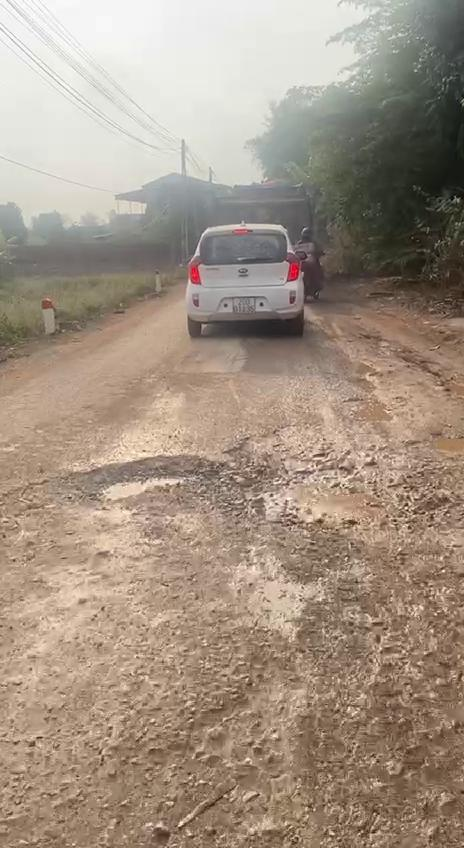pothole: (222, 441, 400, 537), (0, 452, 230, 522), (420, 432, 464, 463)
